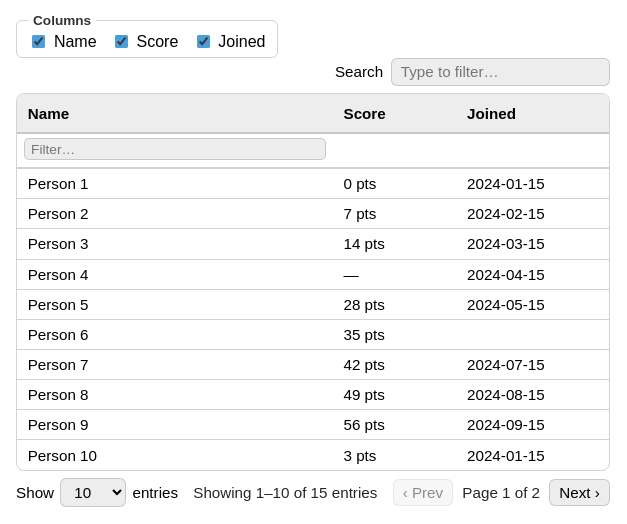
Scenario: DataTable column visibility › hides a filterable column together with its filter input
Expected: the search field named "Filter Name" is shown, [24,138,326,160]
Click the checkbox labelled "Name". click: (39, 42)
box: [32,35,45,48]
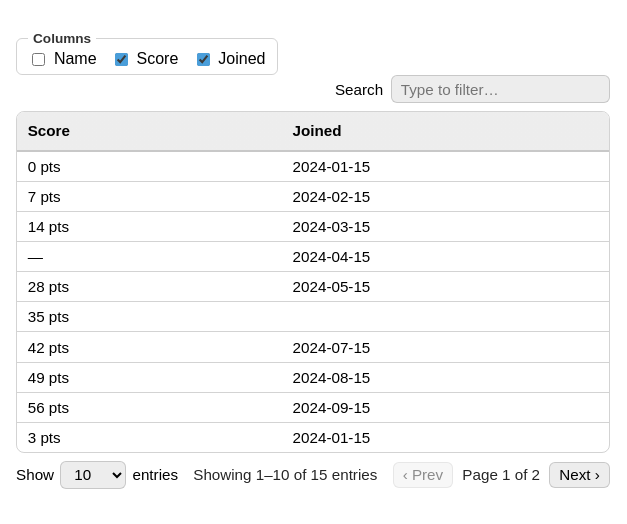
Now the row with class "filter-row" is gone
